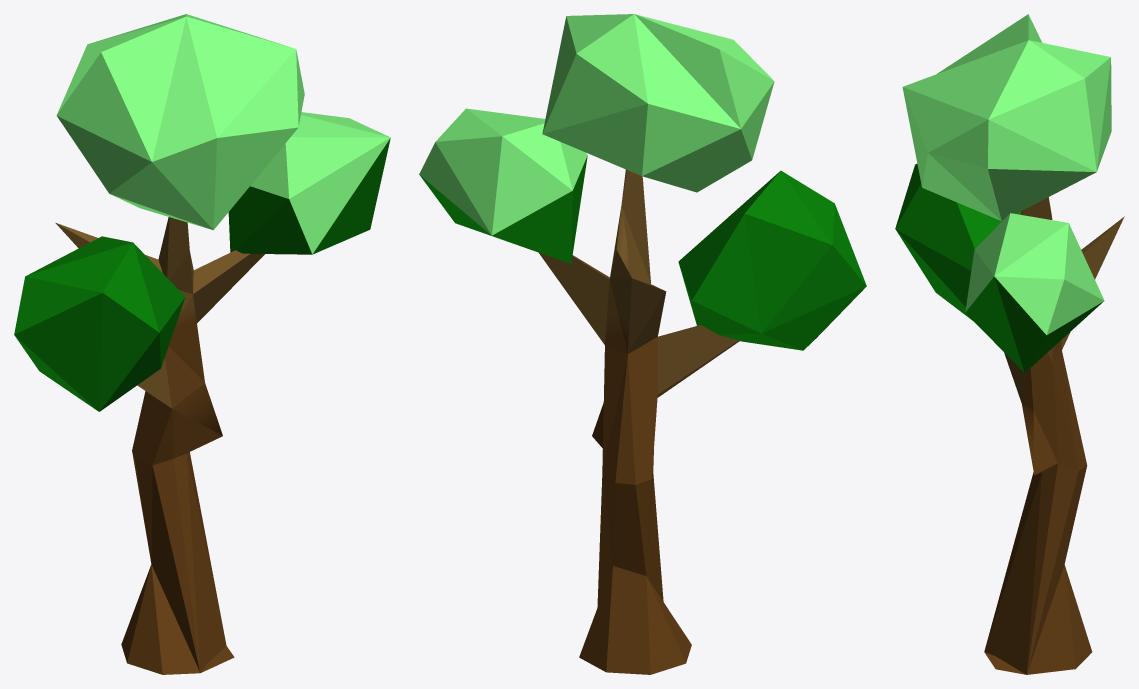
File: Tree3.FBX
3 renders of one model, left to right at view 1: azimuth 30°, elevation 25°; view 2: azimuth 150°, elevation 25°; view 3: azimuth 270°, elevation 25°, orthographic. The views are drawn at different scales.
Visible parts, largest first — view 1: Tree01_LOD2; view 2: Tree01_LOD2; view 3: Tree01_LOD2.
Part boxes in pixels (x1,y1,x2,y2): Tree01_LOD2: (14,14,390,674); Tree01_LOD2: (419,14,866,674); Tree01_LOD2: (895,14,1124,674).
Bounding box in the file's own units: 66.58 × 99.07 × 33.44.
